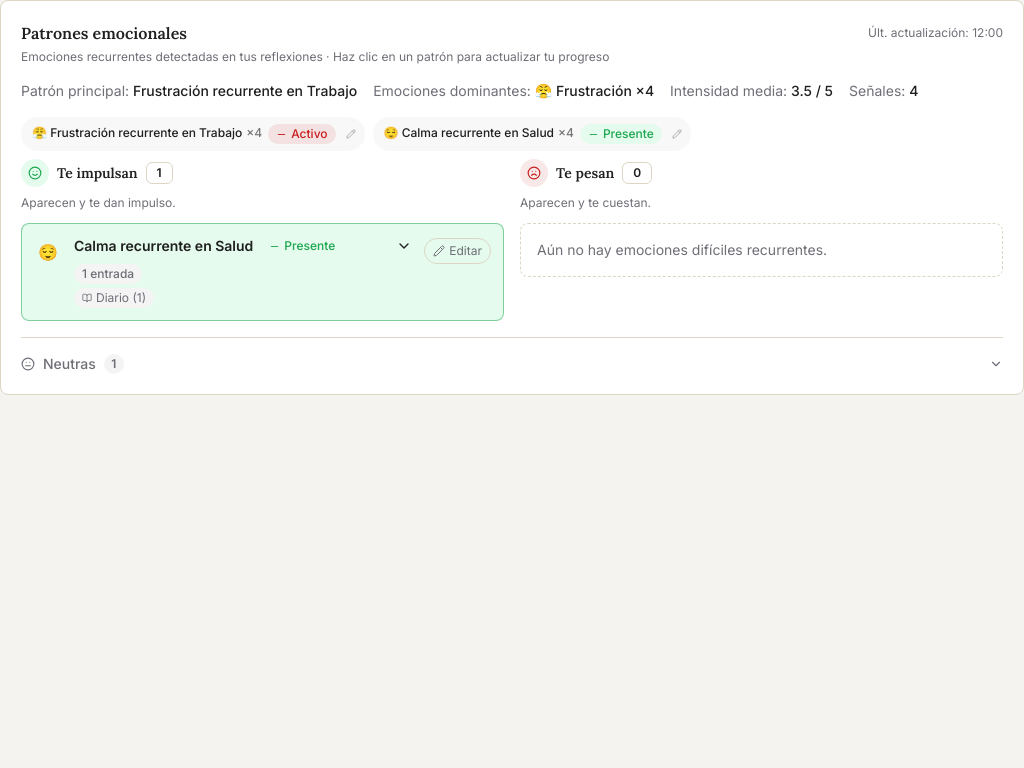
EmotionalPatternsPanel › polarity columns › an unresolved polarity lands in the neutral strip, never in a judged column
This screenshot has width=1024, height=768.
Click the button "Neutras 1". click: x=69, y=364
box: [21,354,1003,374]
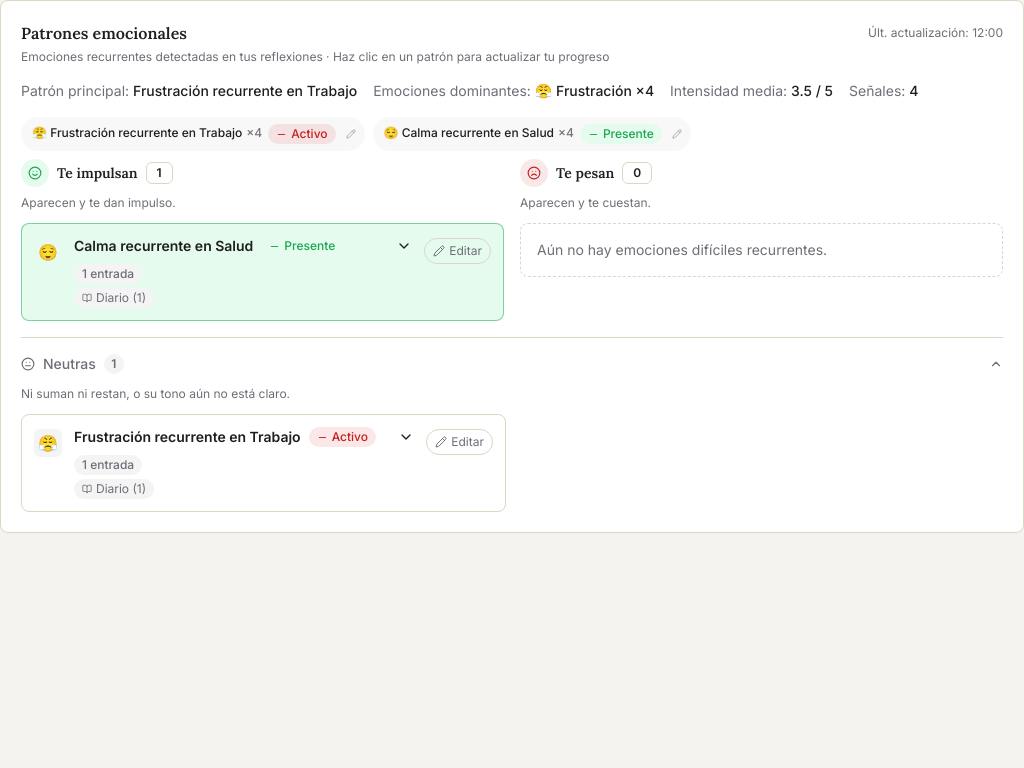
Result: the element with test id "emotional-pattern-group-recurring_emotion_in_context:frustracion:trabajo" is shown at [21,414,506,512]
